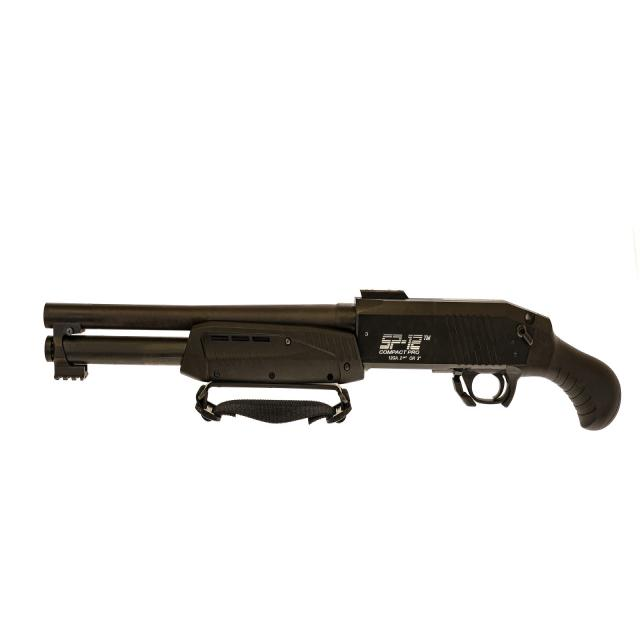ShotGun: (43, 289, 622, 431)
